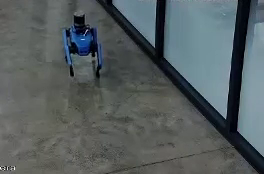robot dog: (58, 7, 109, 82)
